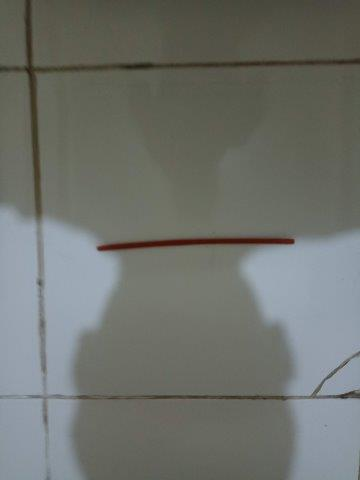sedotan: (97, 237, 295, 253)
